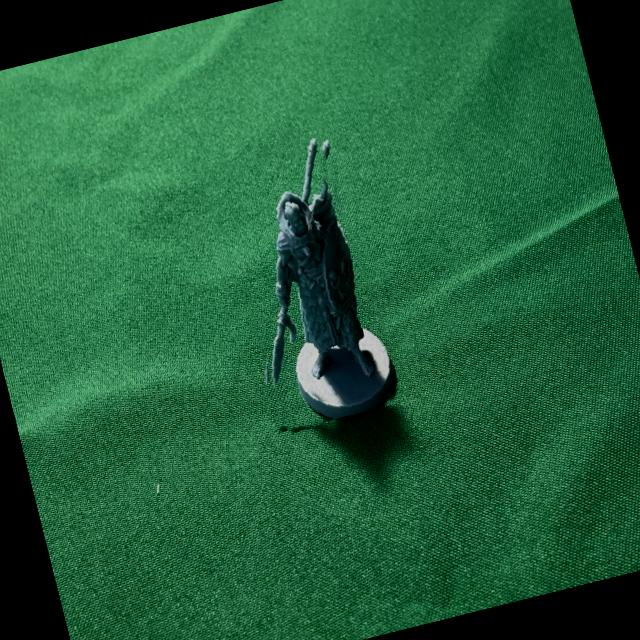isis_follower: (203, 134, 404, 436)
